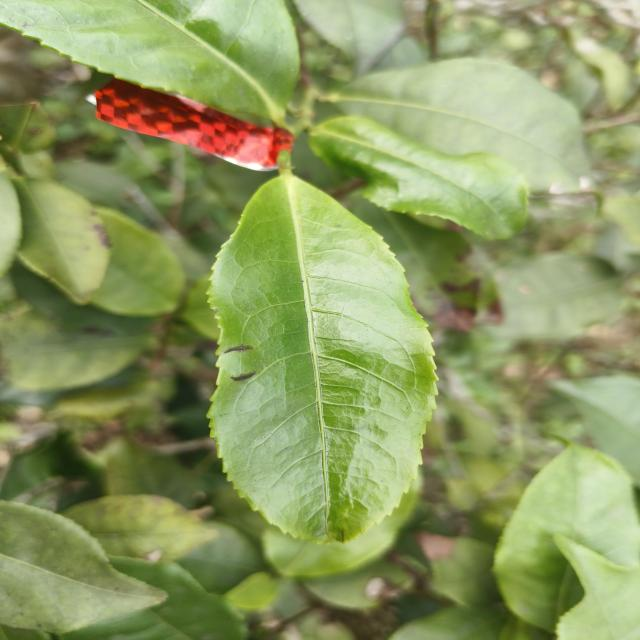Leaf: (208, 171, 437, 544), (0, 0, 300, 125), (331, 58, 589, 192), (494, 445, 640, 632), (309, 117, 528, 239), (0, 501, 166, 634), (354, 200, 481, 330), (62, 557, 247, 640), (0, 308, 151, 390), (14, 177, 110, 304), (494, 252, 620, 340), (90, 206, 185, 316), (63, 495, 216, 561), (550, 375, 640, 485), (554, 534, 640, 640), (294, 0, 406, 75), (417, 532, 499, 607)
